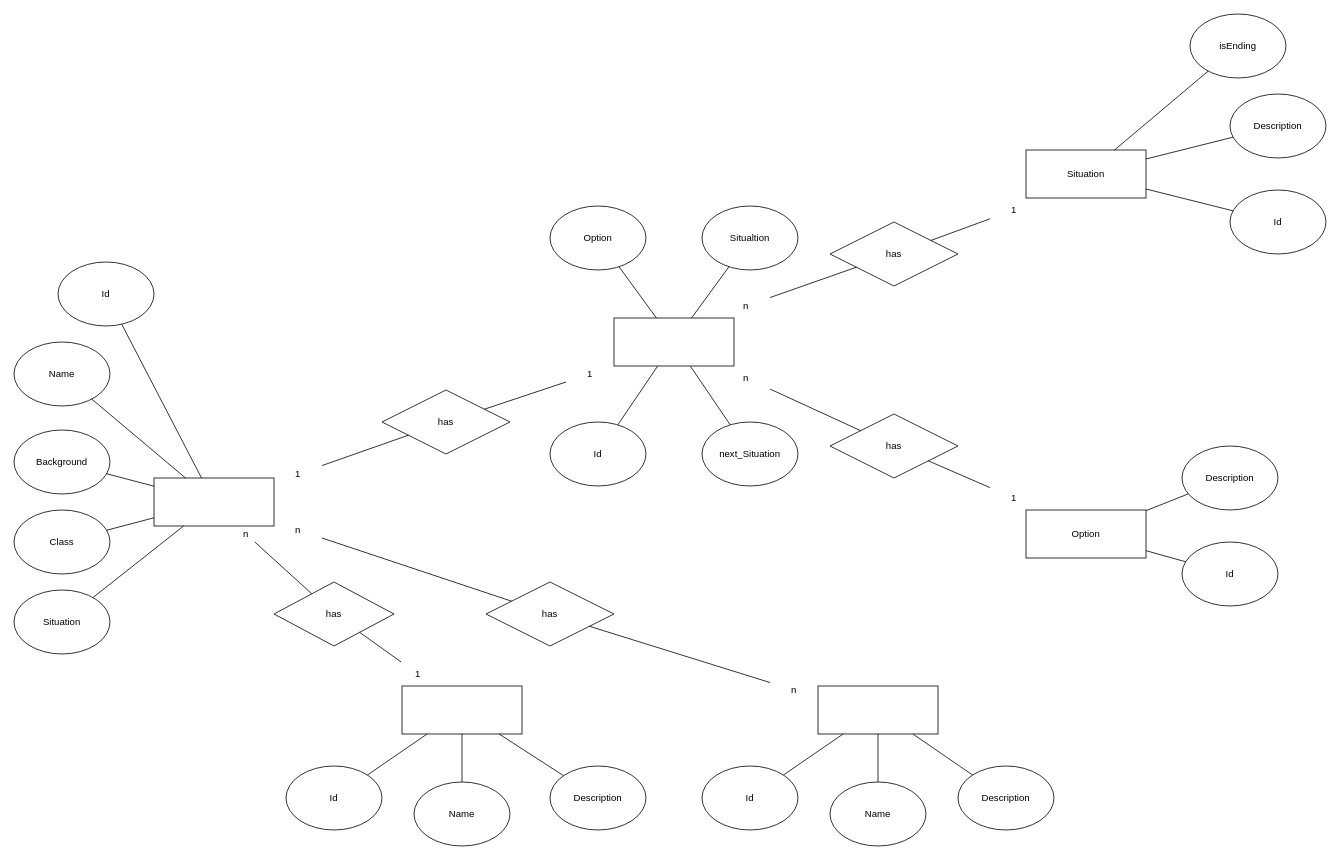
Image size: 1340x860. Some labels were removed from this diagram. Each missing label, with the centre of its shape:
"Player" belongs at (x=213, y=501).
"PlayerBackgroundOption" belongs at (x=877, y=709).
"PlayerClassOption" belongs at (x=461, y=709).
"Storytelling" belongs at (x=673, y=341).
